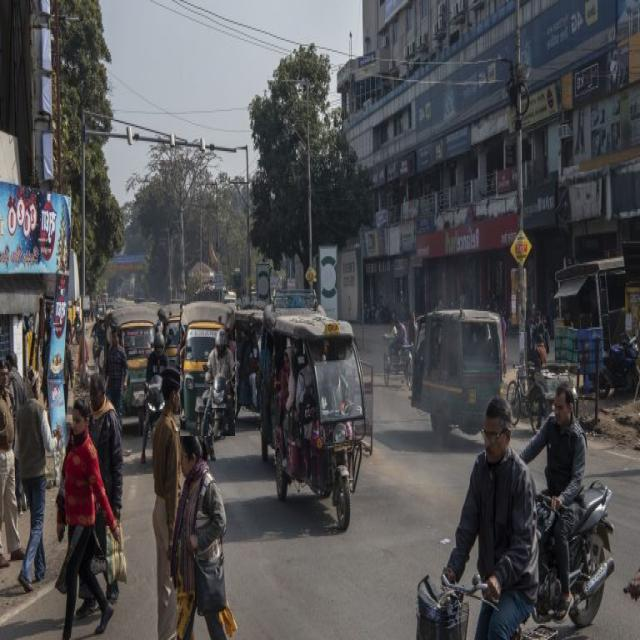autorickshaw: (260, 307, 365, 529), (411, 309, 504, 436), (180, 302, 235, 436), (109, 307, 156, 416)
motorcycle: (521, 382, 614, 626)
